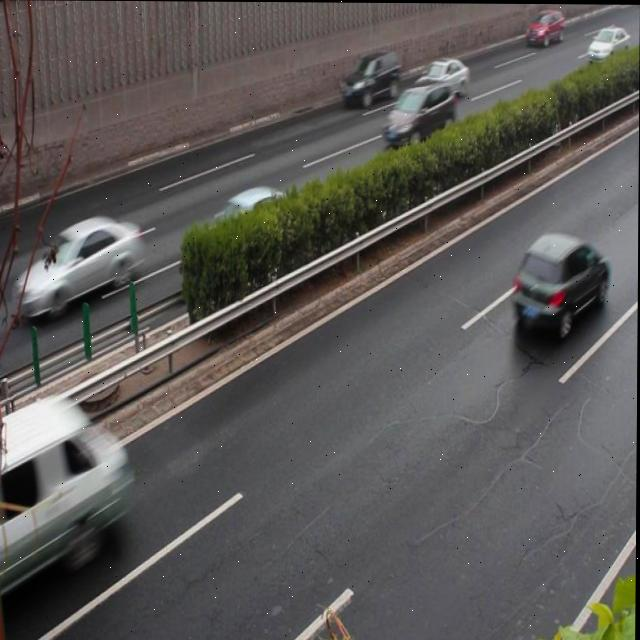car: (12, 217, 143, 319), (188, 186, 293, 283), (510, 233, 608, 334), (383, 78, 454, 145), (339, 49, 401, 107), (412, 55, 467, 101), (524, 7, 563, 47)
